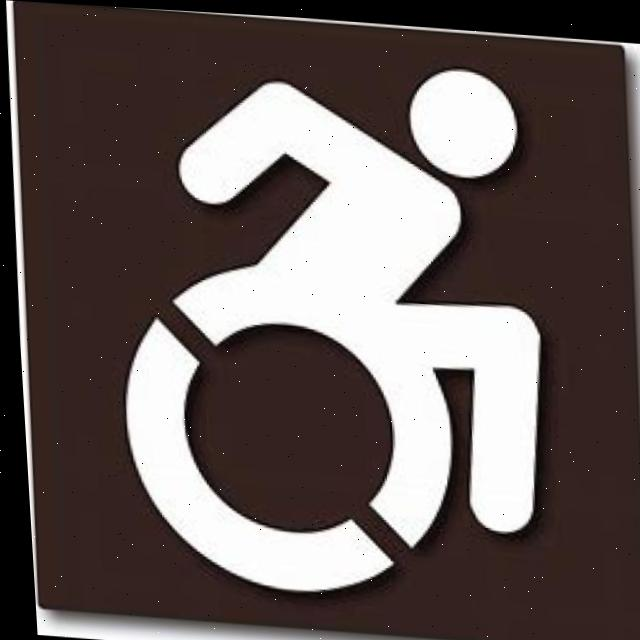symbol_of_access: (97, 38, 567, 611)
